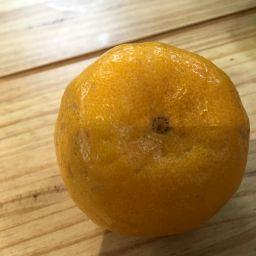Ripe: (56, 40, 253, 233)
